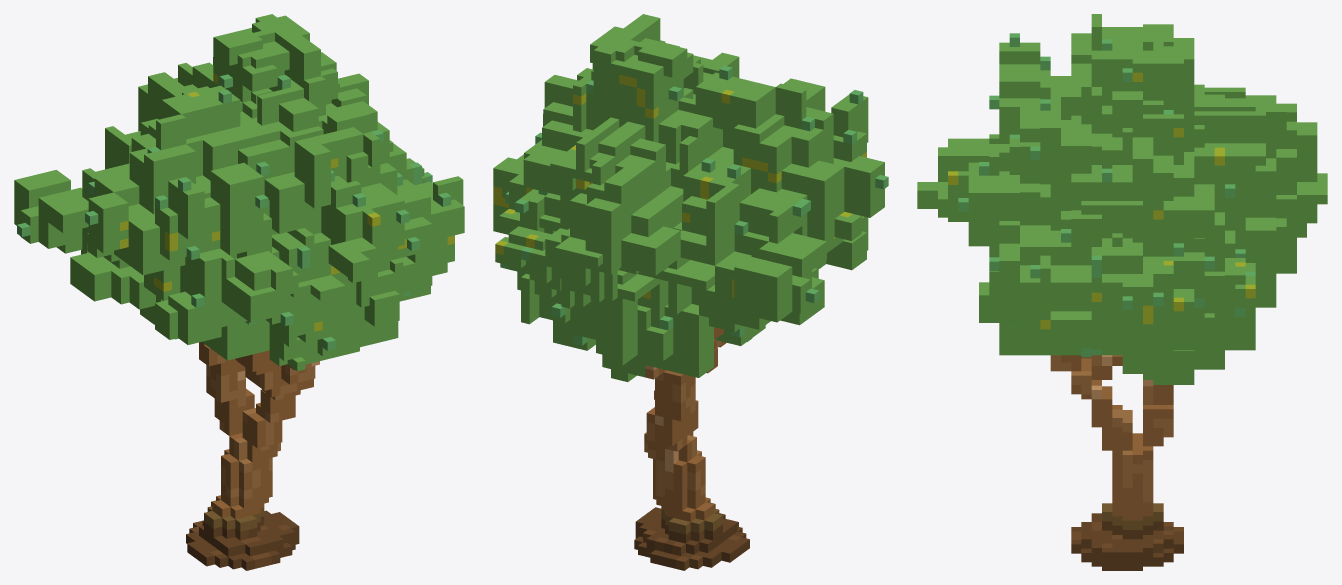
Rendered from 1_0 pit.obj.
3 views of the same model, side by side, from view 1: azimuth 30°, elevation 25°; view 2: azimuth 150°, elevation 25°; view 3: azimuth 270°, elevation 25° (orthographic). The views are drawn at different scales.
Bounding box in the file's own units: 4.3 × 5.6 × 4.
1 material, 1 textured.
